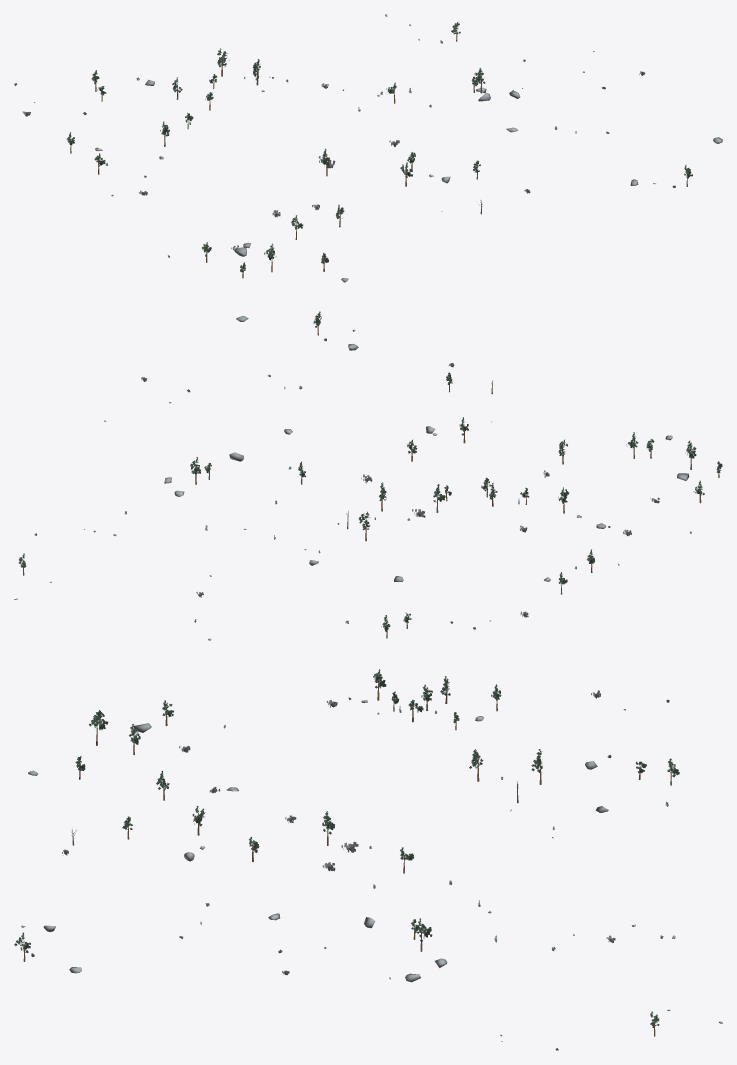
The model's file is frost_land_scatter_c12_09.glb.
3 views of the same model, one above another, from view 1: azimuth 30°, elevation 25°; view 2: azimuth 150°, elevation 25°; view 3: azimuth 270°, elevation 25° (orthographic). The views are drawn at different scales.
Visible parts, largest first — view 1: frost_land_scatter_c12_09; view 2: frost_land_scatter_c12_09; view 3: frost_land_scatter_c12_09.
Part boxes in pixels (box(x1,y1,x2,y2)): frost_land_scatter_c12_09: box(14, 14, 722, 282); frost_land_scatter_c12_09: box(14, 311, 722, 640); frost_land_scatter_c12_09: box(14, 669, 722, 1050).
Bounding box in the file's own units: 255 × 61.24 × 254.
